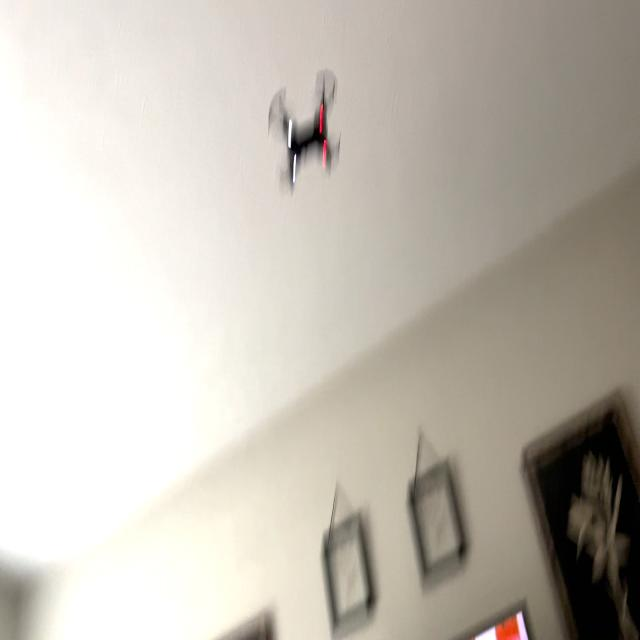drone: (258, 56, 352, 208)
